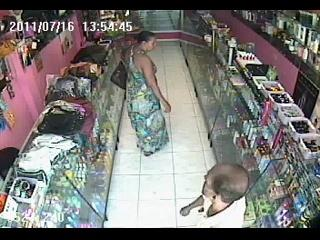Normal: (125, 31, 172, 157), (177, 164, 252, 226), (110, 60, 127, 90)
